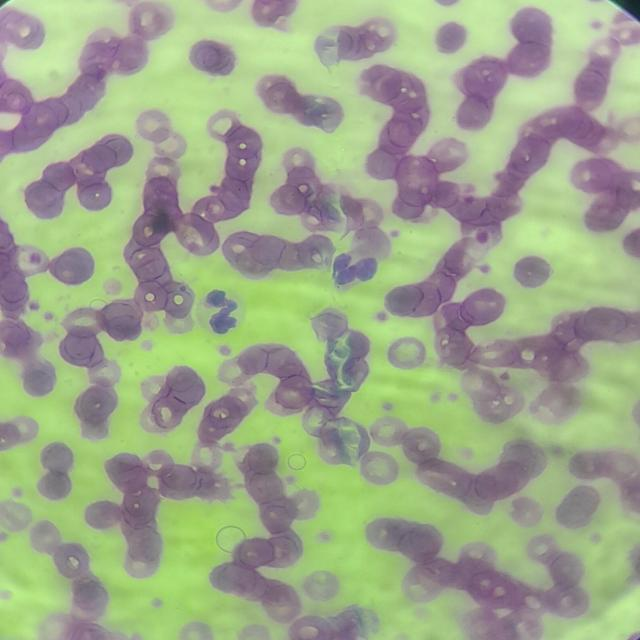Neutrofilo: (195, 285, 249, 336)
